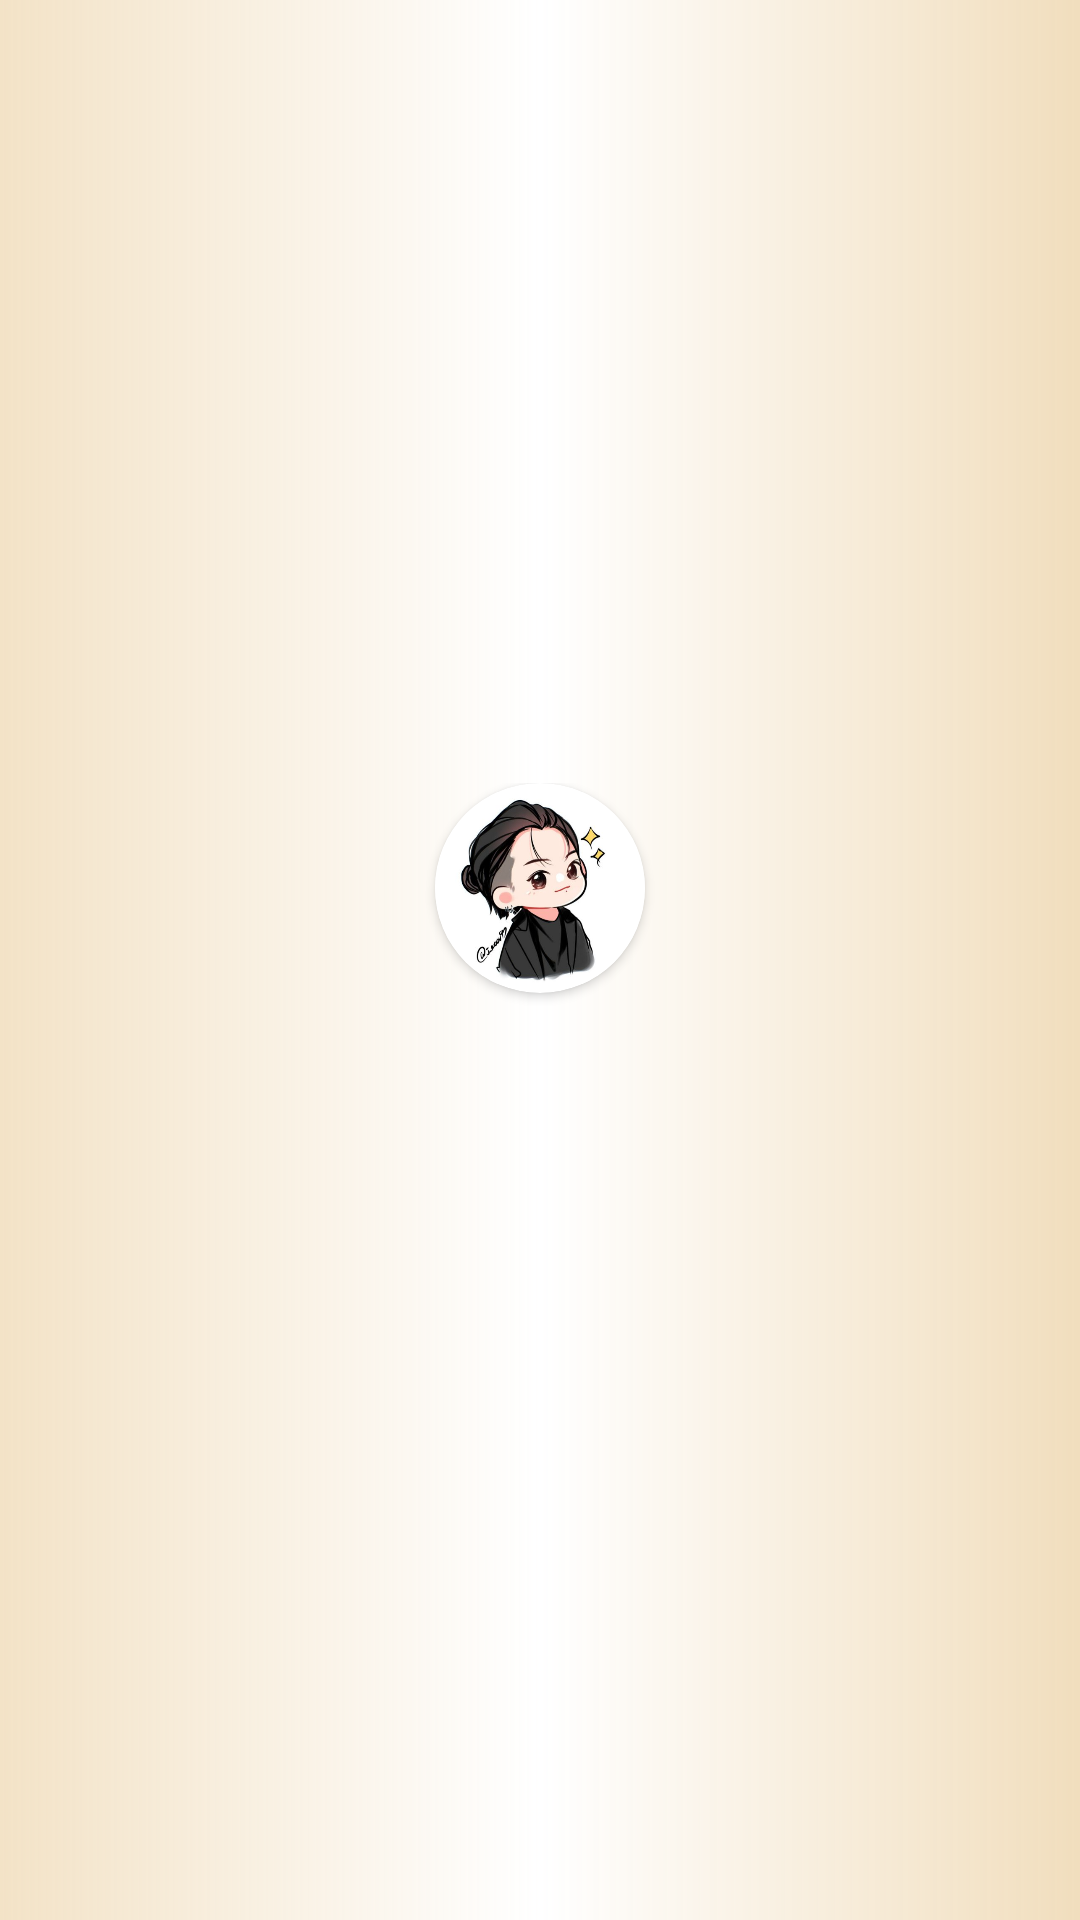

Where icons sit on this 1080x1920 app screen, as (x1, y1, x2, y2):
dai dien: (435, 783, 645, 993)
